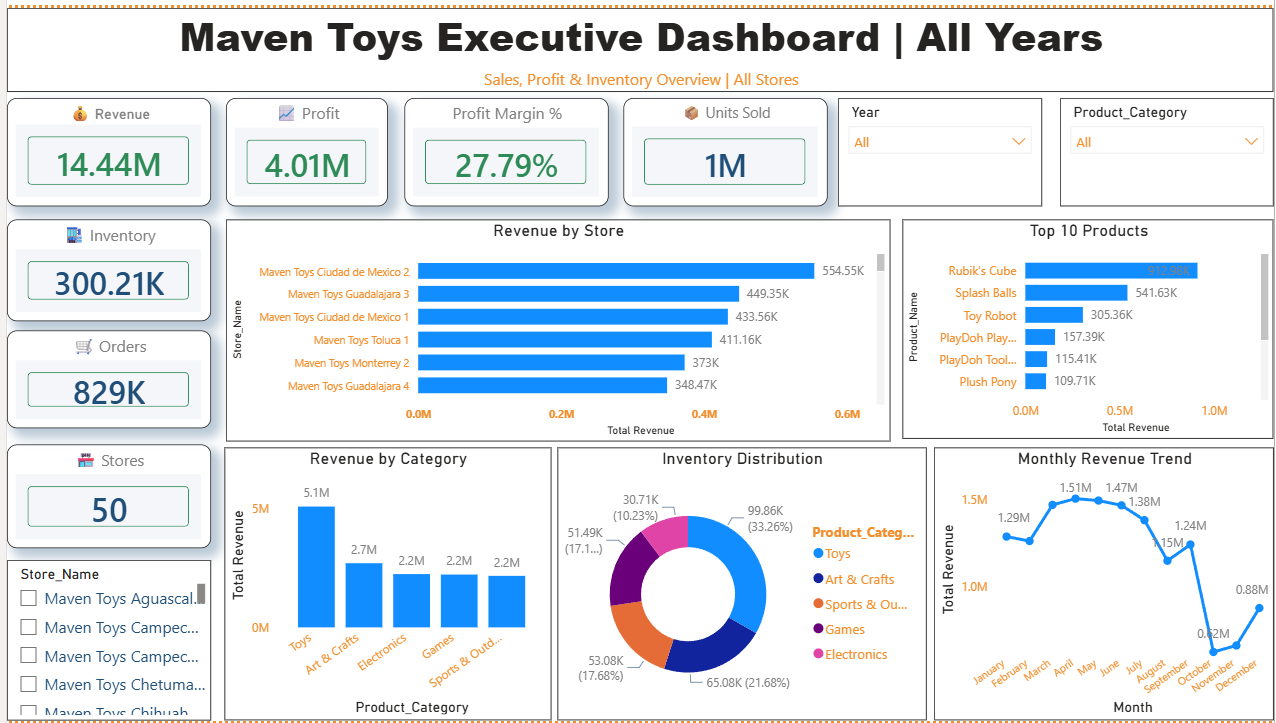

The page's visual inventory and layout, read from the dashboard file:
{"tool":"powerbi","page":{"name":"Executive Dashboard","canvas":[1280,720],"ordinal":0},"visuals":[{"type":"cardVisual","title":"💰 Revenue","fields":{"Data":["Measures1.Total Revenue"]},"box":[0,90.9,205.9,109],"z":0},{"type":"cardVisual","title":"🏬 Inventory","fields":{"Data":["Measures1.Inventory Value"]},"box":[0,213.5,205.9,103],"z":1000},{"type":"cardVisual","title":"🏪 Stores","fields":{"Data":["Measures1.Total Stores"]},"box":[0,440.6,205.9,104.5],"z":2000},{"type":"cardVisual","title":"📈 Profit","fields":{"Data":["Measures1.Total Profit"]},"box":[221.1,90.9,163.5,109],"z":3000},{"type":"cardVisual","title":"Profit Margin %","fields":{"Data":["Measures1.Profit Margin %"]},"box":[401.3,90.9,205.9,109],"z":4000},{"type":"cardVisual","title":"📦 Units Sold","fields":{"Data":["Measures1.Units Sold"]},"box":[622.3,90.9,205.9,109],"z":5000},{"type":"cardVisual","title":"🛒 Orders","fields":{"Data":["Measures1.Total Transactions"]},"box":[0,325.6,205.9,98.4],"z":6000},{"type":"lineChart","title":"Monthly Revenue Trend","fields":{"Category":["Calendar.Month"],"Y":["Measures1.Total Revenue"]},"box":[935.8,443.7,343.7,275.6],"z":7000},{"type":"clusteredColumnChart","title":"Revenue by Category","fields":{"Category":["maven_toys_db products.Product_Category"],"Y":["Measures1.Total Revenue"]},"box":[219.6,443.7,330.1,275.6],"z":8000},{"type":"slicer","fields":{"Values":["maven_toys_db products.Product_Category"]},"box":[1063,90.9,216.5,109],"z":9000},{"type":"slicer","fields":{"Values":["Calendar.Year"]},"box":[838.9,90.9,205.9,109],"z":10000},{"type":"slicer","fields":{"Values":["maven_toys_db stores.Store_Name"]},"box":[0,557.2,205.9,162],"z":11000},{"type":"clusteredBarChart","title":"Revenue by Store","fields":{"Category":["maven_toys_db stores.Store_Name"],"Y":["Measures1.Total Revenue"]},"box":[221.1,213.5,670.8,224.1],"z":12000},{"type":"clusteredBarChart","title":"Top 10 Products","fields":{"Category":["maven_toys_db products.Product_Name"],"Y":["Measures1.Total Revenue"]},"box":[904,213.5,375.5,221.1],"z":13000},{"type":"donutChart","title":"Inventory Distribution","fields":{"Category":["maven_toys_db products.Product_Category"],"Y":["Measures1.Inventory Value"]},"box":[555.7,443.7,372.5,275.6],"z":14000},{"type":"textbox","box":[0,0,1279.5,84.8],"z":15000}]}

Visuals, with their boxes in screenshot pixels (x1, y1, x2, y2), scaled from the page's 1280x720 canvas onto the 1276x723 screenshot:
"💰 Revenue" cardVisual: 0 91 205 201
"🏬 Inventory" cardVisual: 0 214 205 318
"🏪 Stores" cardVisual: 0 442 205 547
"📈 Profit" cardVisual: 220 91 383 201
"Profit Margin %" cardVisual: 400 91 605 201
"📦 Units Sold" cardVisual: 620 91 826 201
"🛒 Orders" cardVisual: 0 327 205 426
"Monthly Revenue Trend" lineChart: 933 446 1275 722
"Revenue by Category" clusteredColumnChart: 219 446 548 722
slicer - maven_toys_db products.Product_Category: 1060 91 1275 201
slicer - Calendar.Year: 836 91 1042 201
slicer - maven_toys_db stores.Store_Name: 0 560 205 722
"Revenue by Store" clusteredBarChart: 220 214 889 439
"Top 10 Products" clusteredBarChart: 901 214 1275 436
"Inventory Distribution" donutChart: 554 446 925 722
textbox: 0 0 1275 85
